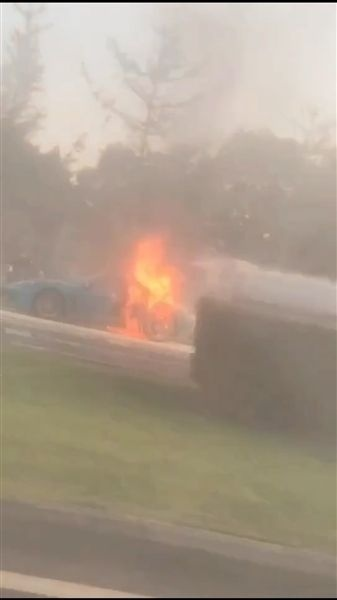fire: (114, 230, 186, 339)
